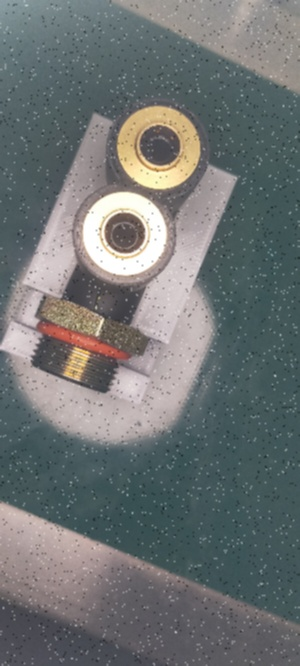craze: (93, 288, 102, 316)
